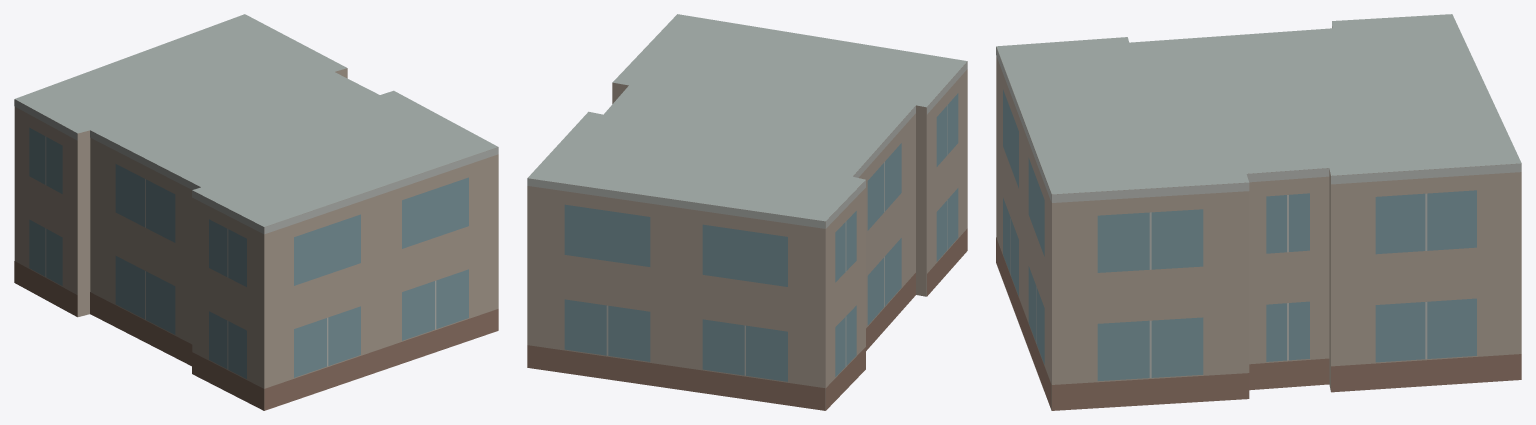
The model's file is survey-upis-32993392.glb.
3 renders of one model, left to right at view 1: azimuth 30°, elevation 25°; view 2: azimuth 150°, elevation 25°; view 3: azimuth 270°, elevation 25°, orthographic. The views are drawn at different scales.
Parts seen in each view (by area): view 1: survey-upis-32993392.tmp; view 2: survey-upis-32993392.tmp; view 3: survey-upis-32993392.tmp.
Boxes of the visible parts, bbox=[...] form: survey-upis-32993392.tmp: bbox=[14, 14, 498, 410]; survey-upis-32993392.tmp: bbox=[527, 14, 967, 410]; survey-upis-32993392.tmp: bbox=[996, 14, 1521, 410].
Bounding box in the file's own units: 10.92 × 6.1 × 13.44.
